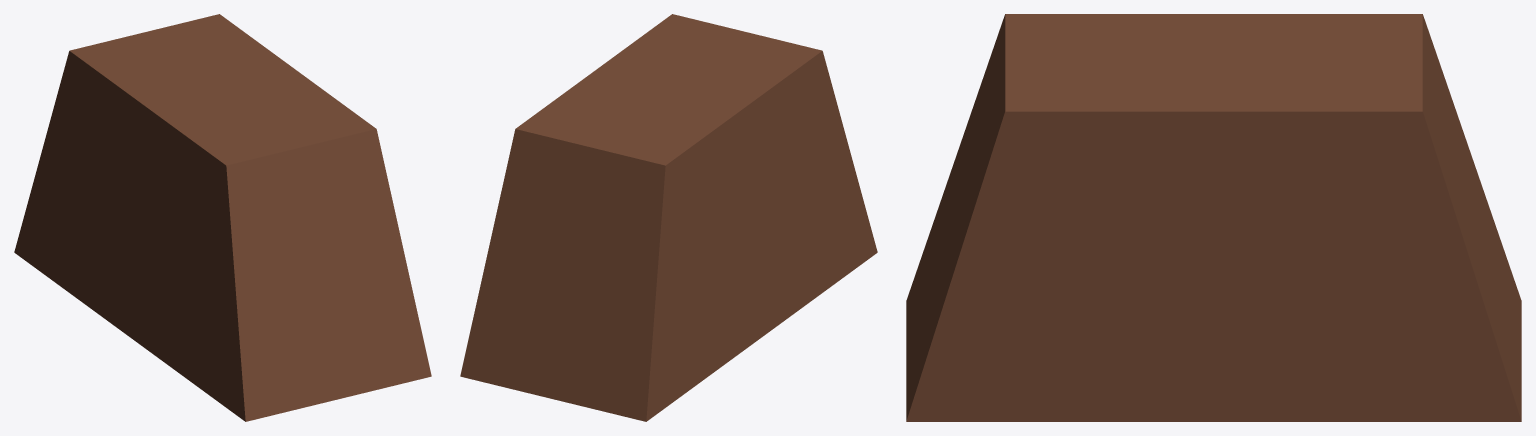
File: wk_shell_foot_boot_v01.glb
The picture shows the model from 3 angles, left to right: view 1: azimuth 30°, elevation 25°; view 2: azimuth 150°, elevation 25°; view 3: azimuth 270°, elevation 25°; orthographic projection. The views are drawn at different scales.
Visible parts, largest first — view 1: GEO_Boot; view 2: GEO_Boot; view 3: GEO_Boot.
Boxes of the visible parts, bbox=[...] form: GEO_Boot: bbox=[14, 14, 431, 421]; GEO_Boot: bbox=[460, 14, 877, 421]; GEO_Boot: bbox=[906, 14, 1521, 421].
Bounding box in the file's own units: 0.13 × 0.15 × 0.28.
